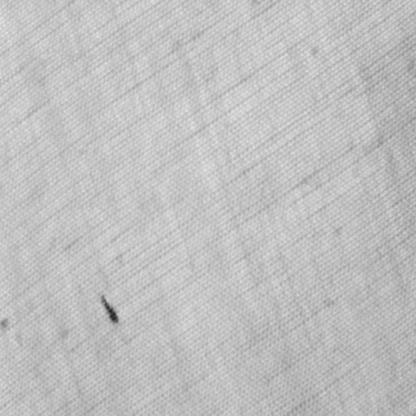oil spot: (99, 290, 119, 325)
